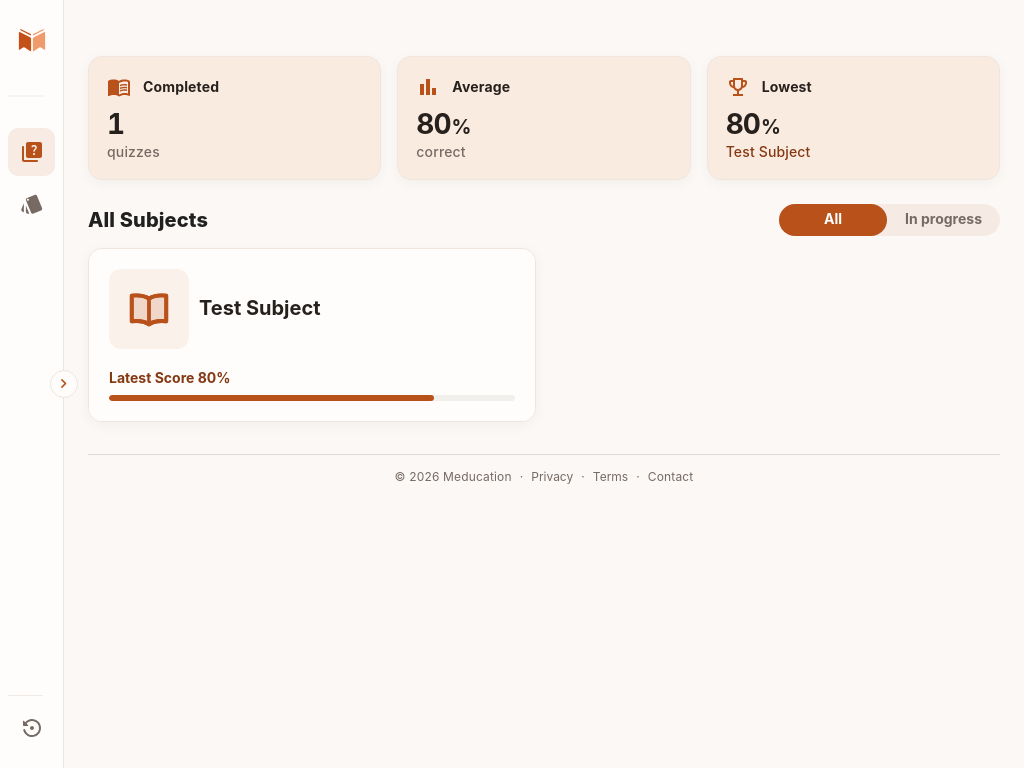
Test: progressive dashboard statistics › leaves persisted progress unchanged when question loading fails
The width and height of the screenshot is (1024, 768).
Click the button with aria-label "Open Test Subject" at (312, 334), box left=89, top=248, right=535, bottom=420
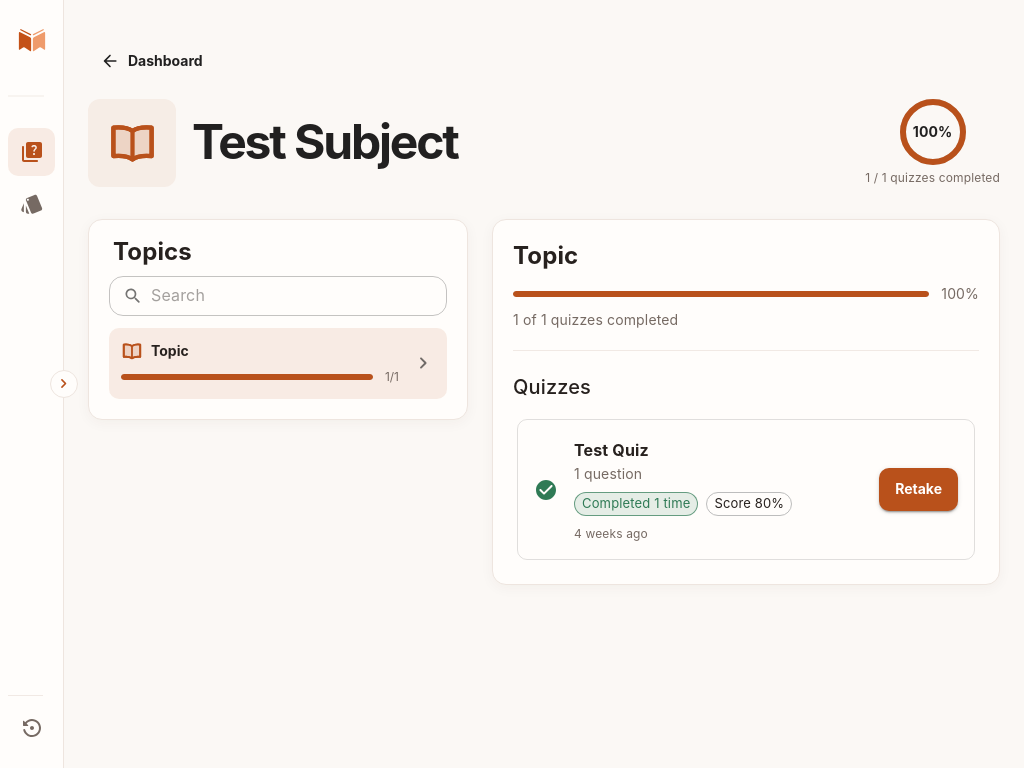
Click the button with aria-label "Retake quiz" at (919, 490), box left=879, top=468, right=958, bottom=511
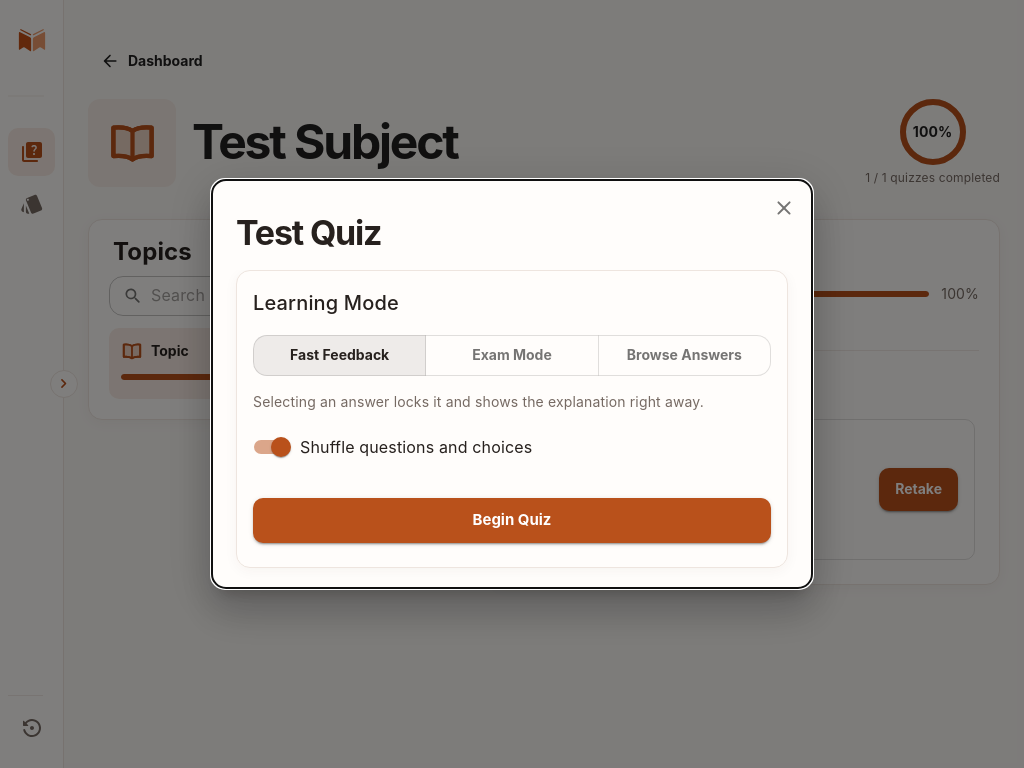
Click the button "Begin Quiz" at (512, 520), box left=253, top=498, right=771, bottom=543
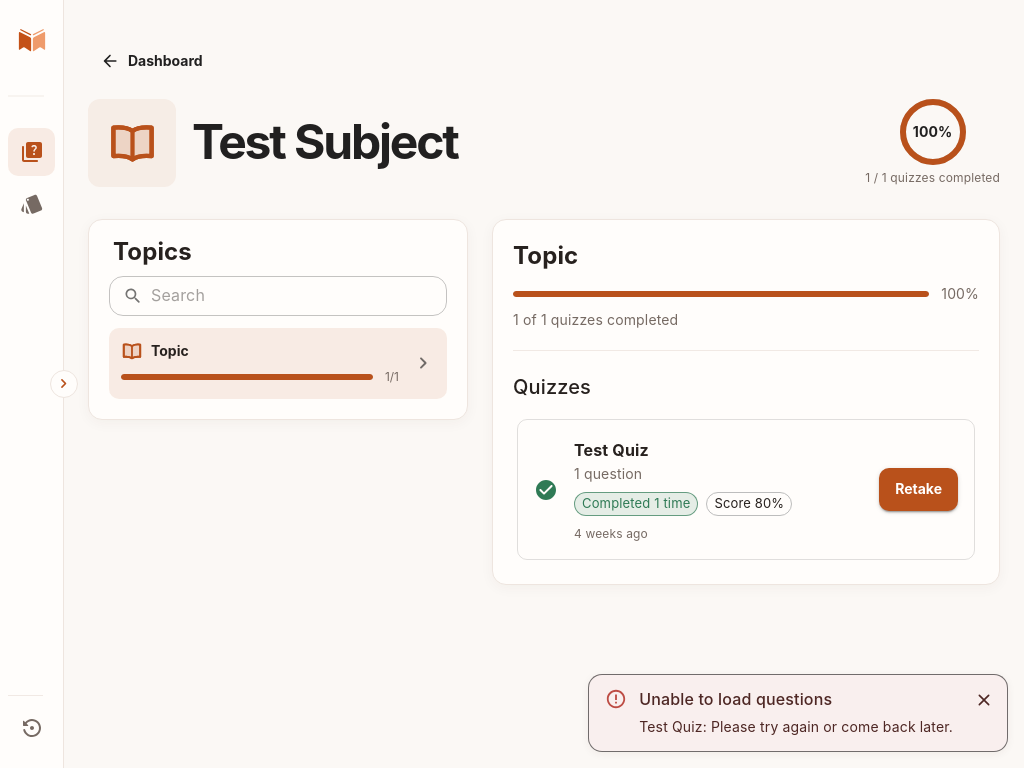
expect the message shows "Unable to load questions": met, box left=639, top=689, right=832, bottom=709
expect the message shows "Test Quiz: Please try again or come back later.": met, box left=588, top=674, right=1008, bottom=752
expect the button named "Close notification" is shown: met, box left=969, top=685, right=999, bottom=715
Click the button "Dashboard" at (153, 61), box left=88, top=40, right=219, bottom=82
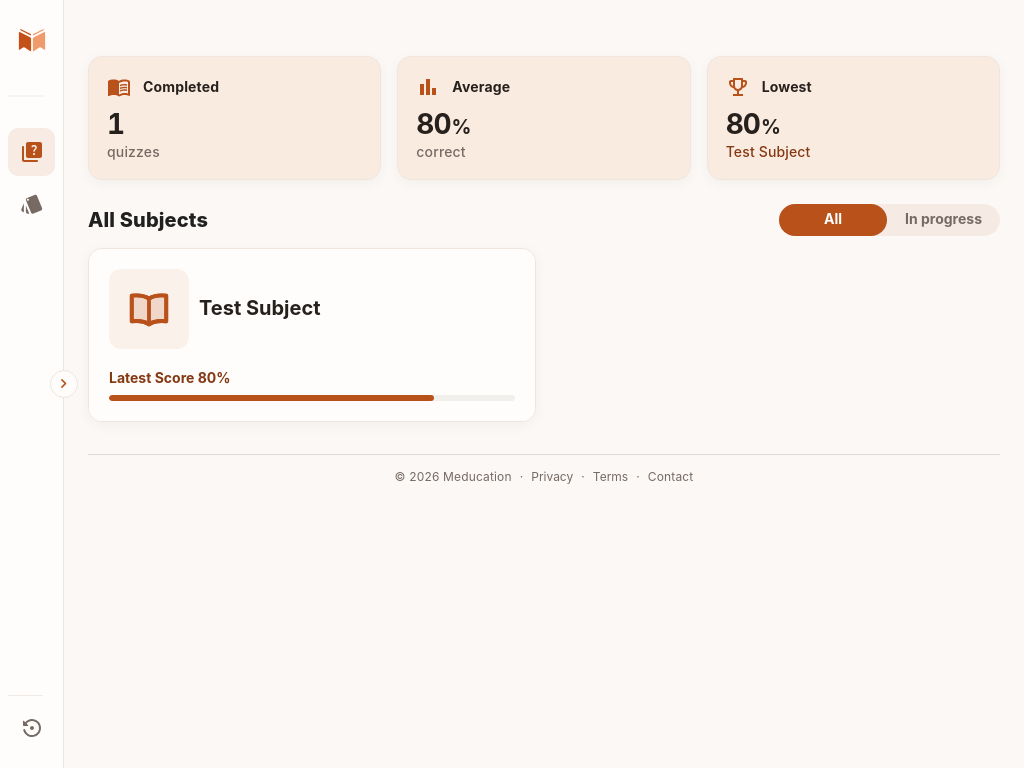
expect the heading "All Subjects" is shown: met, box left=88, top=204, right=208, bottom=236
expect the message "Unable to load questions Test Quiz: Please try again or come back later." is gone: met
